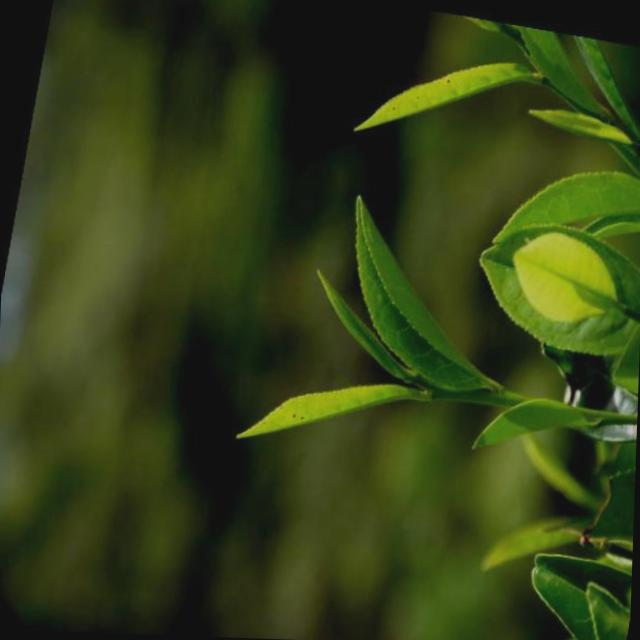Stem: (430, 384, 449, 398)
